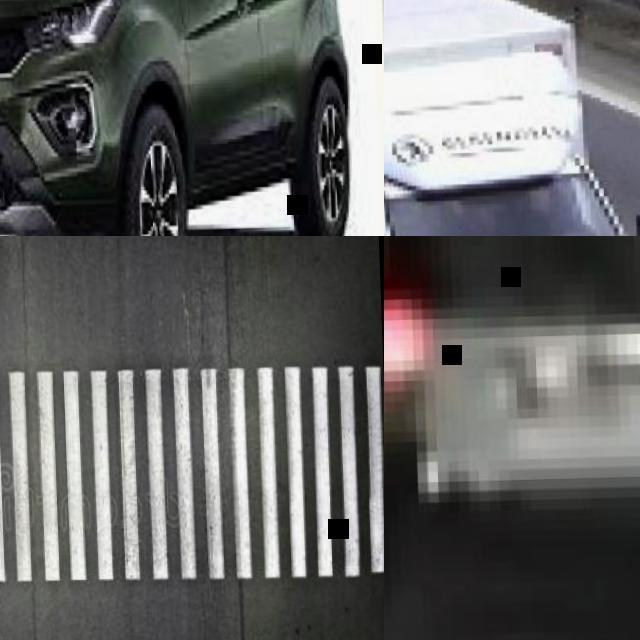car: (2, 0, 349, 234)
